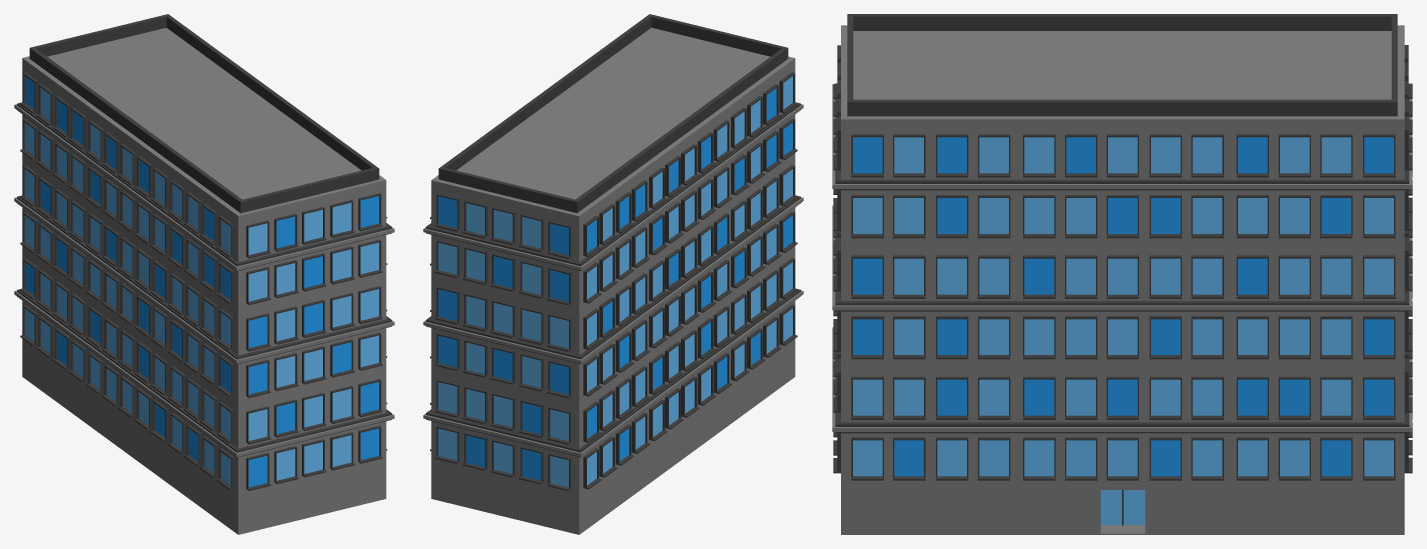
File: building_01.fbx
3 renders of one model, left to right at view 1: azimuth 30°, elevation 25°; view 2: azimuth 150°, elevation 25°; view 3: azimuth 270°, elevation 25°, orthographic. The views are drawn at different scales.
Parts seen in each view (by area): view 1: building_01; view 2: building_01; view 3: building_01.
Boxes of the visible parts, x1,y1,x2,y2 form: building_01: [14, 14, 394, 534]; building_01: [423, 14, 803, 534]; building_01: [832, 14, 1412, 534].
Bounding box in the file's own units: 1074 × 2129 × 2604.
1 material, 1 textured.
